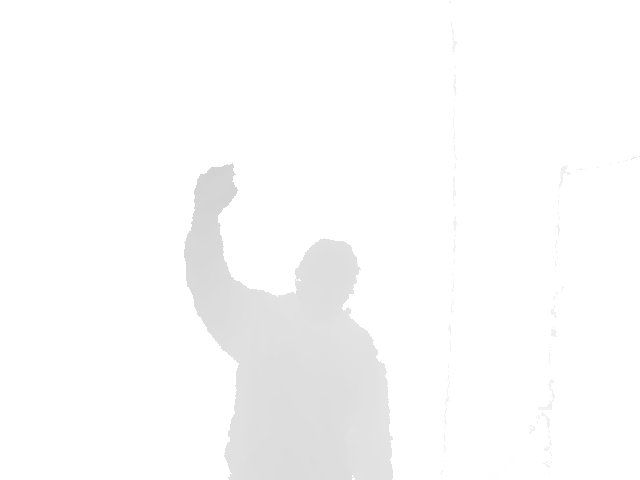hand: (192, 163, 239, 216)
head: (293, 237, 361, 316)
person: (182, 163, 396, 479)
